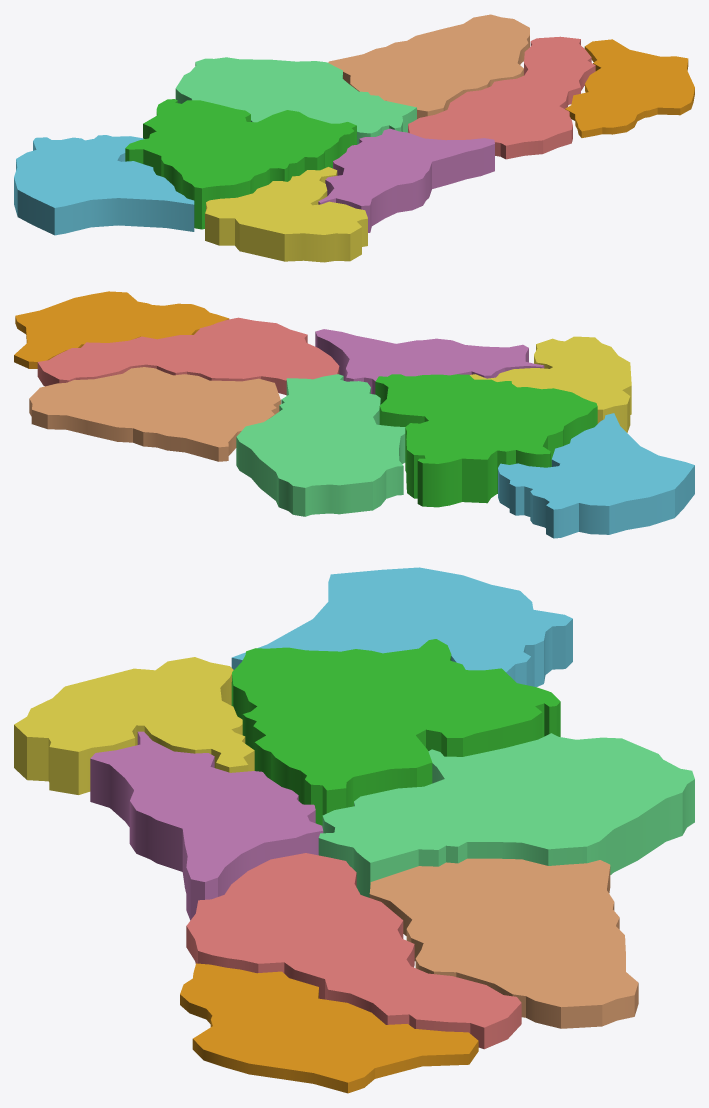
The model's file is Campaign_map.glb.
3 views of the same model, one above another, from view 1: azimuth 30°, elevation 25°; view 2: azimuth 150°, elevation 25°; view 3: azimuth 270°, elevation 25° (orthographic). The views are drawn at different scales.
Parts seen in each view (by area): view 1: Sevilla, Huelva, Jaen, Granada, Cordoba, Cadiz, Malaga, Almeria; view 2: Sevilla, Cordoba, Jaen, Huelva, Granada, Almeria, Malaga, Cadiz; view 3: Cordoba, Sevilla, Jaen, Granada, Malaga, Almeria, Huelva, Cadiz.
Boxes of the visible parts, x1=… form: Sevilla: x1=125, y1=99, x2=356, y2=229; Huelva: x1=14, y1=135, x2=194, y2=235; Jaen: x1=328, y1=14, x2=529, y2=118; Granada: x1=408, y1=36, x2=595, y2=159; Cordoba: x1=175, y1=57, x2=416, y2=144; Cadiz: x1=205, y1=167, x2=367, y2=262; Malaga: x1=318, y1=128, x2=494, y2=232; Almeria: x1=565, y1=39, x2=694, y2=137; Sevilla: x1=375, y1=374, x2=597, y2=507; Cordoba: x1=236, y1=374, x2=405, y2=516; Jaen: x1=29, y1=367, x2=280, y2=461; Huelva: x1=498, y1=413, x2=694, y2=538; Granada: x1=37, y1=317, x2=339, y2=395; Almeria: x1=14, y1=291, x2=229, y2=368; Malaga: x1=315, y1=329, x2=544, y2=394; Cadiz: x1=470, y1=336, x2=631, y2=432; Cordoba: x1=318, y1=733, x2=694, y2=897; Sevilla: x1=231, y1=639, x2=560, y2=826; Jaen: x1=369, y1=858, x2=638, y2=1028; Granada: x1=186, y1=853, x2=521, y2=1049; Malaga: x1=90, y1=731, x2=323, y2=920; Almeria: x1=180, y1=963, x2=478, y2=1093; Huelva: x1=231, y1=567, x2=572, y2=686; Cadiz: x1=14, y1=657, x2=254, y2=794.
Bounding box in the file's own units: 4.69 × 0.2856 × 2.71.
